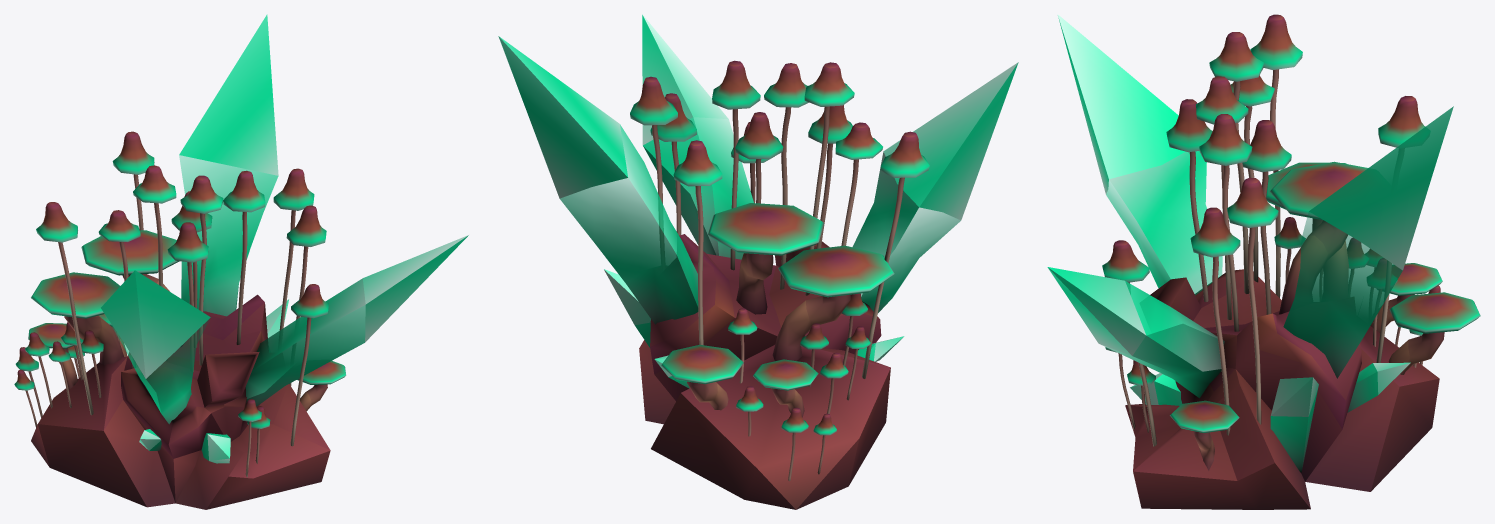
Rendered from crystal-mushrooms.glb.
The picture shows the model from 3 angles, left to right: view 1: azimuth 30°, elevation 25°; view 2: azimuth 150°, elevation 25°; view 3: azimuth 270°, elevation 25°; orthographic projection. The views are drawn at different scales.
Visible parts, largest first — view 1: Crystal_shroom_1; view 2: Crystal_shroom_1; view 3: Crystal_shroom_1.
Part boxes in pixels (x1=…): Crystal_shroom_1: x1=14, y1=14, x2=468, y2=509; Crystal_shroom_1: x1=498, y1=14, x2=1018, y2=509; Crystal_shroom_1: x1=1047, y1=14, x2=1480, y2=509.
Bounding box in the file's own units: 4.69 × 4.76 × 4.19.
1 material, 1 textured.
